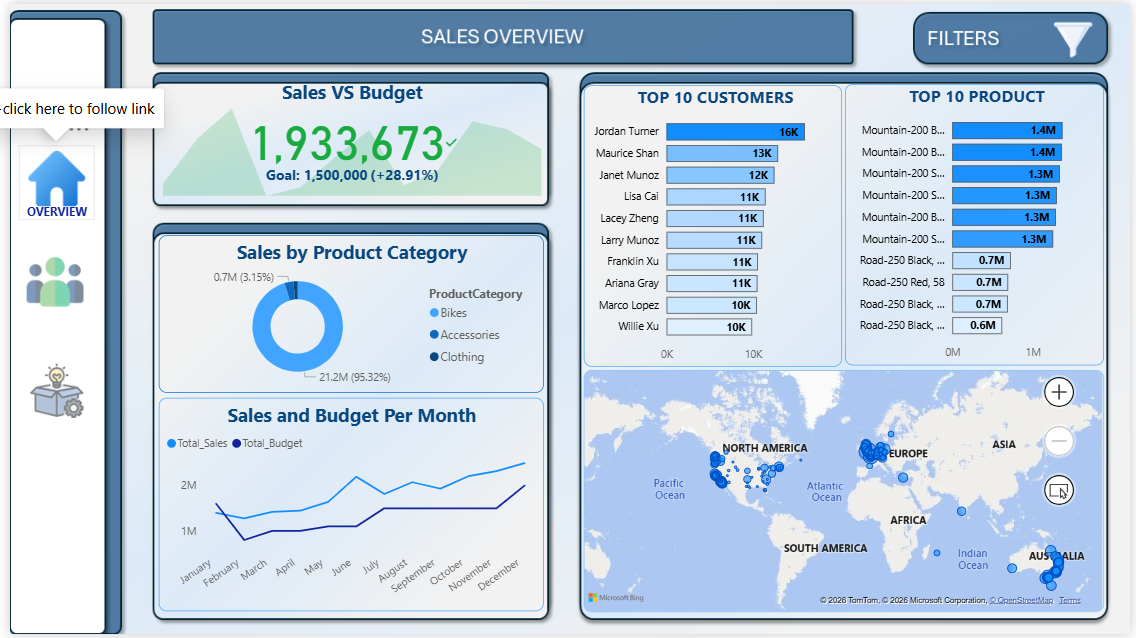

What the dashboard file says about the page in this screenshot:
{"tool":"powerbi","page":{"name":"SalesOverview","canvas":[1280,720],"ordinal":0},"visuals":[{"type":"actionButton","box":[10,161.2,87.5,86.2],"z":0},{"type":"actionButton","box":[10,278.8,87.5,86.2],"z":1000},{"type":"actionButton","box":[10,401.2,87.5,86.2],"z":2000},{"type":"actionButton","box":[1036.2,10,217.5,52.5],"z":3000},{"type":"kpi","title":"Sales VS Budget","fields":{"Indicator":["Key_Measures.Total_Sales"],"Goal":["Key_Measures.Total_Budget"],"TrendLine":["DIM_Calendar.Month"]},"box":[170,86.2,442.5,138.8],"z":4000},{"type":"donutChart","title":"Sales by Product Category","fields":{"Category":["Dim_Products.ProductCategory"],"Y":["Sum(Fact_InternetSales.SalesAmount)"]},"box":[170,264.3,440,180],"z":5000},{"type":"lineChart","title":"Sales and Budget Per Month","fields":{"Category":["DIM_Calendar.Date.Variation.Date Hierarchy.Month"],"Y":["Key_Measures.Total_Sales","Key_Measures.Total_Budget"]},"box":[170,450,440,244.3],"z":6000},{"type":"clusteredBarChart","title":"TOP 10 CUSTOMERS","fields":{"Y":["Sum(Fact_InternetSales.SalesAmount)"],"Category":["Dim_Customer.FullName"]},"box":[655.7,92.9,295,321.4],"z":7000},{"type":"clusteredBarChart","title":"TOP  10 PRODUCT","fields":{"Y":["Sum(Fact_InternetSales.SalesAmount)"],"Category":["Dim_Products.ProductName"]},"box":[954.3,91.4,295.7,321.4],"z":8000},{"type":"map","fields":{"Category":["Dim_Customer.CustomerCity"],"Size":["Sum(Fact_InternetSales.SalesAmount)"]},"box":[655.7,418.6,594.3,275.7],"z":9000}]}

Visuals, with their boxes in screenshot pixels (x1, y1, x2, y2), scaled from the page's 1280x720 canvas onto the 1136x638 screenshot:
actionButton: box(9, 143, 87, 219)
actionButton: box(9, 247, 87, 323)
actionButton: box(9, 356, 87, 432)
actionButton: box(920, 9, 1113, 55)
"Sales VS Budget" kpi: box(151, 76, 544, 199)
"Sales by Product Category" donutChart: box(151, 234, 541, 394)
"Sales and Budget Per Month" lineChart: box(151, 399, 541, 615)
"TOP 10 CUSTOMERS" clusteredBarChart: box(582, 82, 844, 367)
"TOP  10 PRODUCT" clusteredBarChart: box(847, 81, 1109, 366)
map - Dim_Customer.CustomerCity x Sum(Fact_InternetSales.SalesAmount): box(582, 371, 1109, 615)
